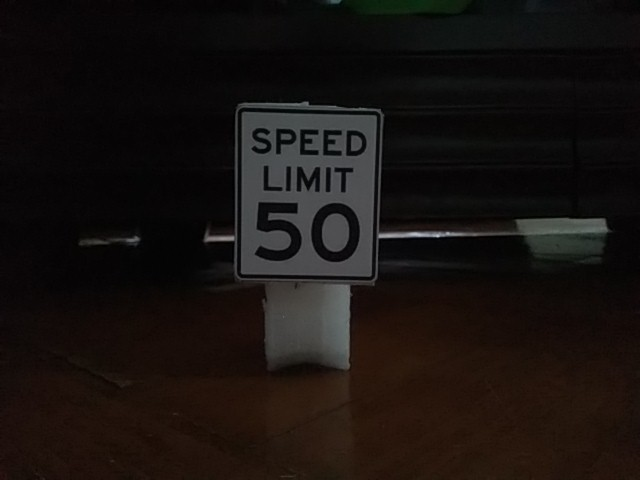Speed Limit 50: (234, 103, 385, 286)
